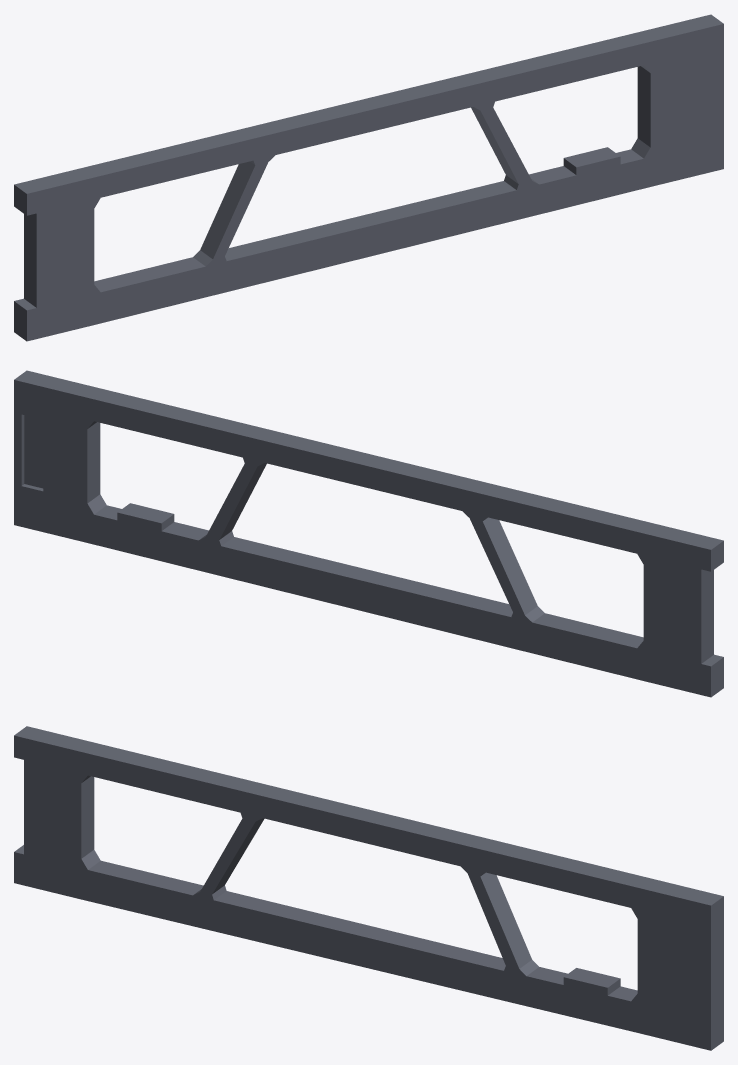
Rendered from building6.fbx.
The picture shows the model from 3 angles, top to bottom: view 1: azimuth 30°, elevation 25°; view 2: azimuth 150°, elevation 25°; view 3: azimuth 330°, elevation 25°; orthographic projection.
Parts seen in each view (by area): view 1: Cube_1544.001; view 2: Cube_1544.001; view 3: Cube_1544.001.
Part boxes in pixels (x1,y1,x2,y2): Cube_1544.001: (14, 14, 723, 341); Cube_1544.001: (14, 370, 723, 697); Cube_1544.001: (14, 726, 723, 1050).
Bounding box in the file's own units: 1115 × 226 × 35.59.
